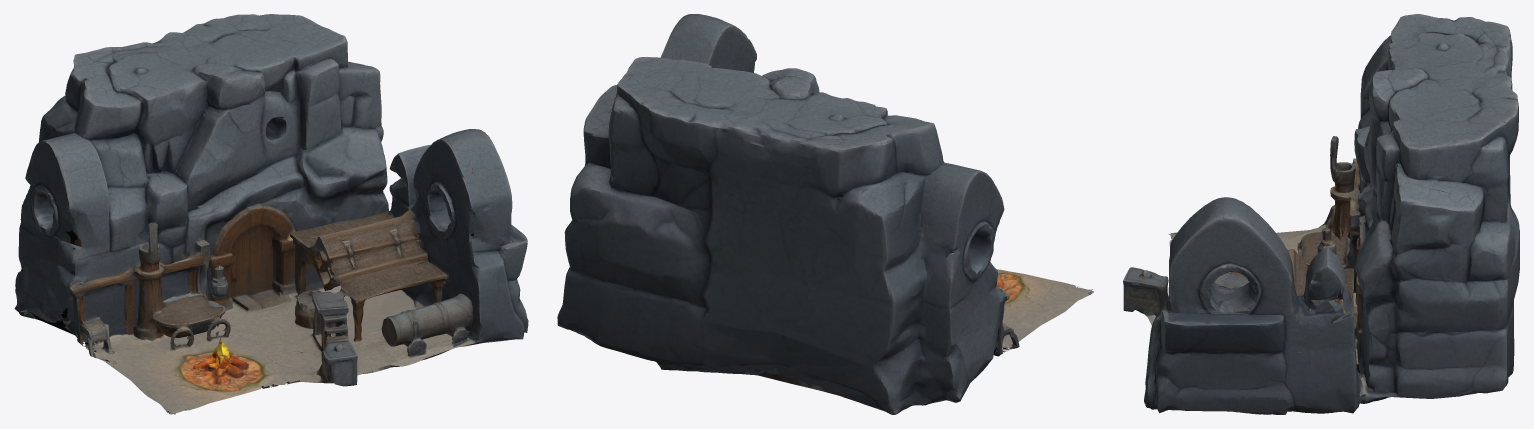
Rendered from dwarf_camp.glb.
The picture shows the model from 3 angles, left to right: view 1: azimuth 30°, elevation 25°; view 2: azimuth 150°, elevation 25°; view 3: azimuth 270°, elevation 25°; orthographic projection. The views are drawn at different scales.
Visible parts, largest first — view 1: output_unwrapped; view 2: output_unwrapped; view 3: output_unwrapped.
Boxes of the visible parts, bbox=[...] form: output_unwrapped: bbox=[14, 14, 528, 414]; output_unwrapped: bbox=[557, 14, 1093, 414]; output_unwrapped: bbox=[1123, 14, 1519, 414].
Bounding box in the file's own units: 1.89 × 1.11 × 1.63.
Materials: 1 (1 with a texture image).
